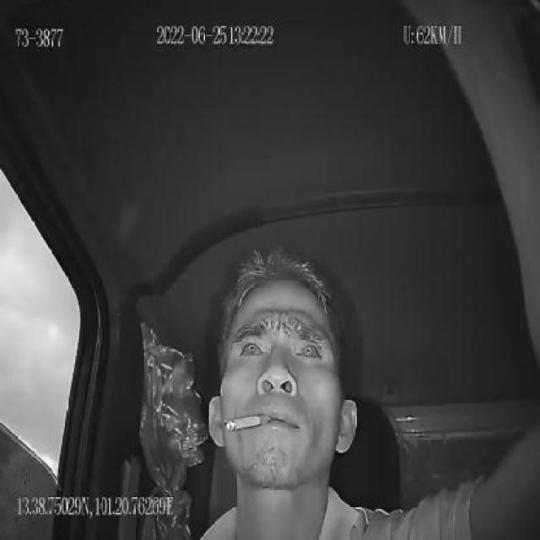smoking: (224, 413, 271, 432)
